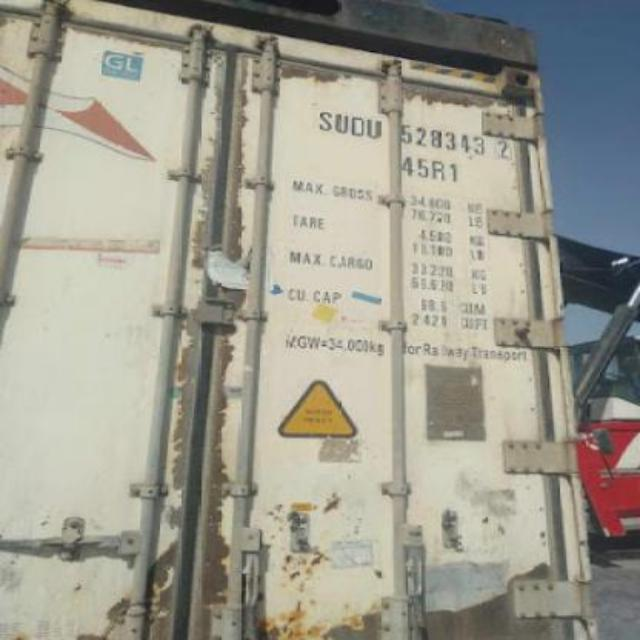2: (412, 123, 428, 147), (496, 138, 512, 158)
3: (442, 129, 460, 153), (472, 133, 486, 157)
4: (458, 131, 472, 155)
5: (396, 119, 416, 145)
8: (428, 128, 444, 148)
D: (348, 115, 366, 136)
S: (314, 110, 334, 132)
U: (332, 109, 352, 135), (366, 115, 384, 141)
